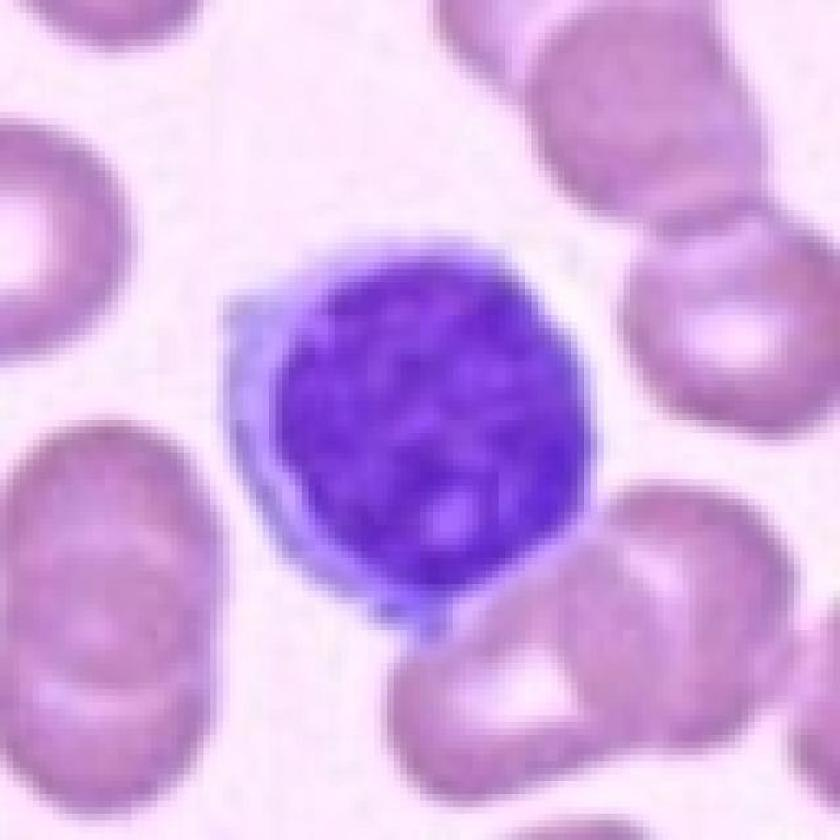lymphocyte: (205, 220, 612, 643)
